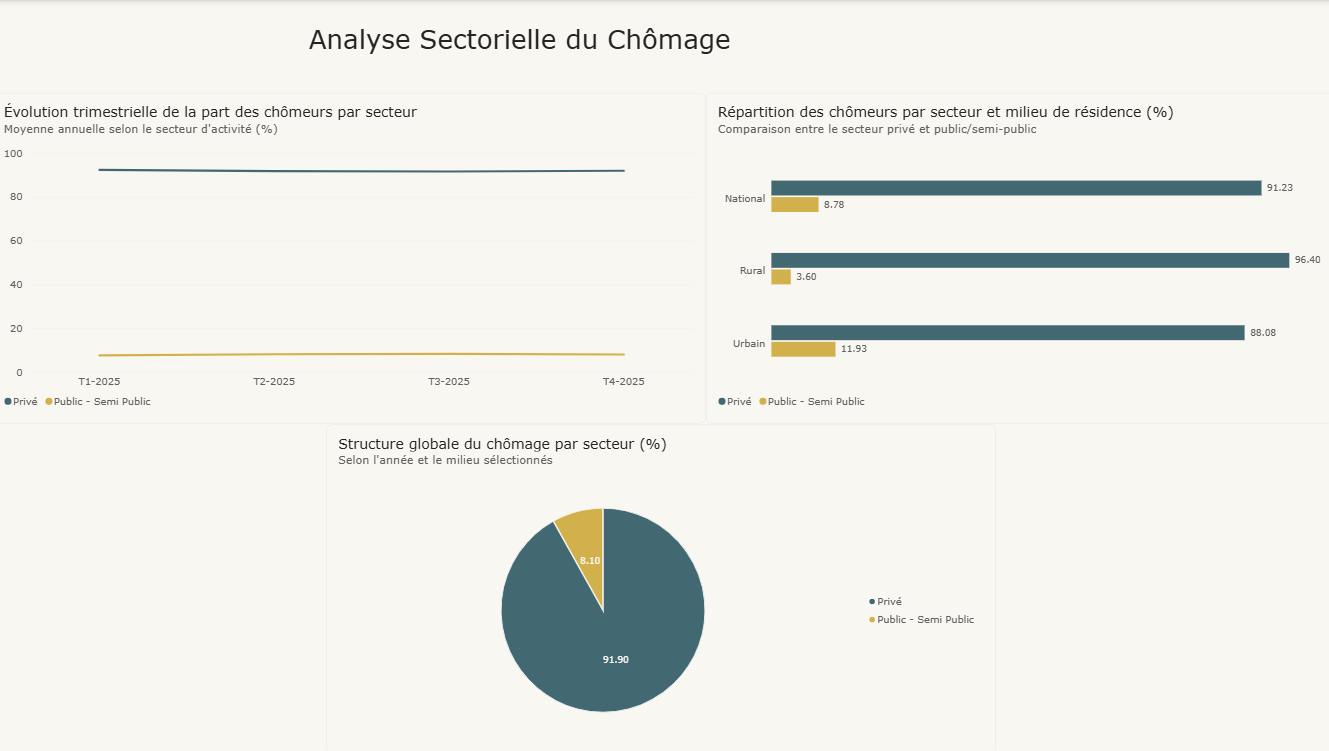

Layout of this report page (visuals, bound fields, positions):
{"tool":"powerbi","page":{"name":"Analyse Sectorielle","canvas":[1920,1080],"ordinal":3},"visuals":[{"type":"lineChart","title":"Évolution trimestrielle de la part des chômeurs par secteur","fields":{"Category":["DimQuarter.Label"],"Series":["Chomage_Secteur_Milieu.Secteur"],"Y":["Chomage_Secteur_Milieu.Taux_Chomage_Secteur"]},"box":[0,134.2,1022.3,473.3],"z":0},{"type":"clusteredBarChart","title":"Répartition des chômeurs par secteur et milieu de résidence (%)","fields":{"Category":["DimMilieu.Milieu"],"Series":["Chomage_Secteur_Milieu.Secteur"],"Y":["Chomage_Secteur_Milieu.Taux_Chomage_Secteur"]},"box":[1022.3,134.2,897.9,473.3],"z":1},{"type":"pieChart","title":"Structure globale du chômage par secteur (%)","fields":{"Category":["Chomage_Secteur_Milieu.Secteur"],"Y":["Chomage_Secteur_Milieu.Taux_Chomage_Secteur"]},"box":[478.2,607.5,958.8,473.3],"z":3},{"type":"textbox","box":[209.8,31.7,1090.6,102.5],"z":6}]}

Visuals, with their boxes in screenshot pixels (x1, y1, x2, y2), scaled from the page's 1920x1080 canvas onto the 1329x751 screenshot:
"Évolution trimestrielle de la part des chômeurs par secteur" lineChart: [0,93,708,422]
"Répartition des chômeurs par secteur et milieu de résidence (%)" clusteredBarChart: [708,93,1328,422]
"Structure globale du chômage par secteur (%)" pieChart: [331,422,995,750]
textbox: [145,22,900,93]
